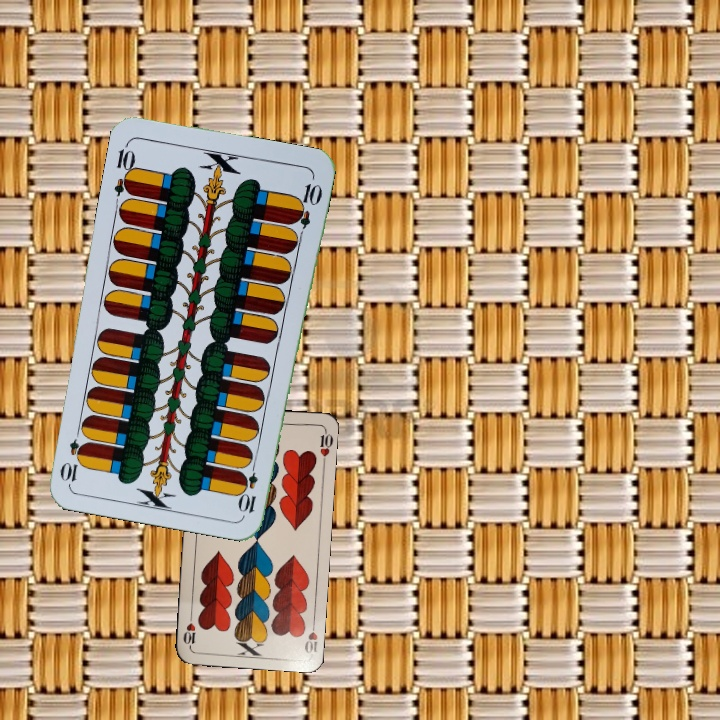E10: (110, 139, 139, 198), (238, 456, 261, 515)
H10: (300, 616, 320, 656)
